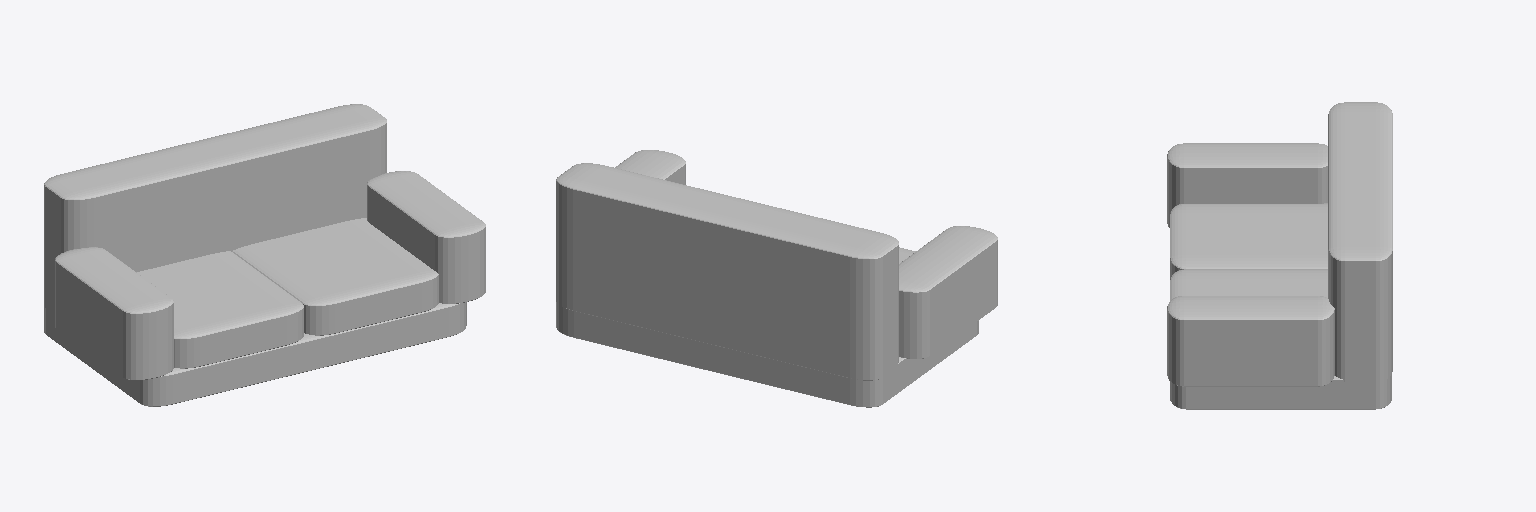
The model's file is Sofa.obj.
The picture shows the model from 3 angles: view 1: azimuth 30°, elevation 25°; view 2: azimuth 150°, elevation 25°; view 3: azimuth 270°, elevation 25°; orthographic projection.
Visible parts, largest first — view 1: Cube.001; view 2: Cube.001; view 3: Cube.001.
Boxes of the visible parts, x1,y1,x2,y2 form: Cube.001: [44, 104, 485, 406]; Cube.001: [556, 150, 997, 407]; Cube.001: [1167, 102, 1392, 409].
Bounding box in the file's own units: 3.94 × 1.6 × 2.13.